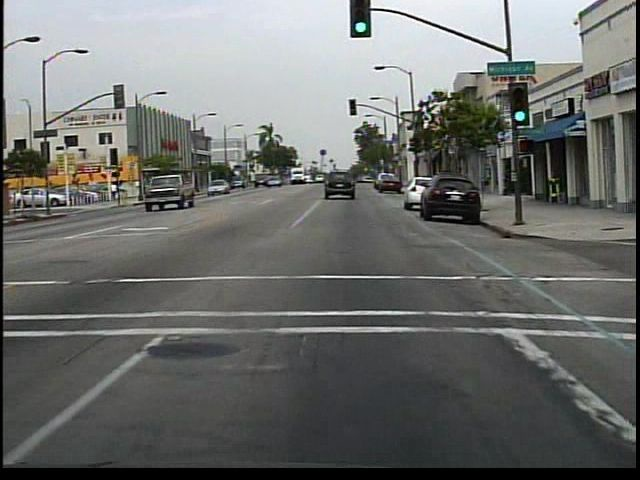person: (111, 181, 120, 205)
